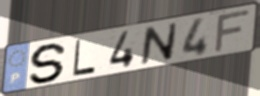4: (106, 29, 136, 70), (181, 16, 210, 58)
F: (213, 7, 253, 54)
L: (71, 37, 97, 78)
N: (139, 20, 180, 67)
S: (28, 42, 70, 84)
